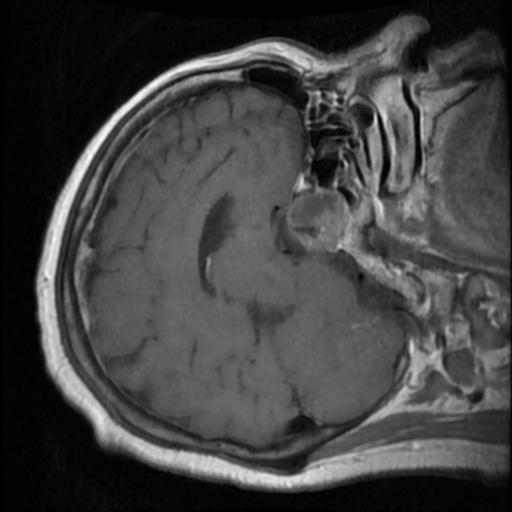pituitary tumour: (285, 190, 347, 255)
